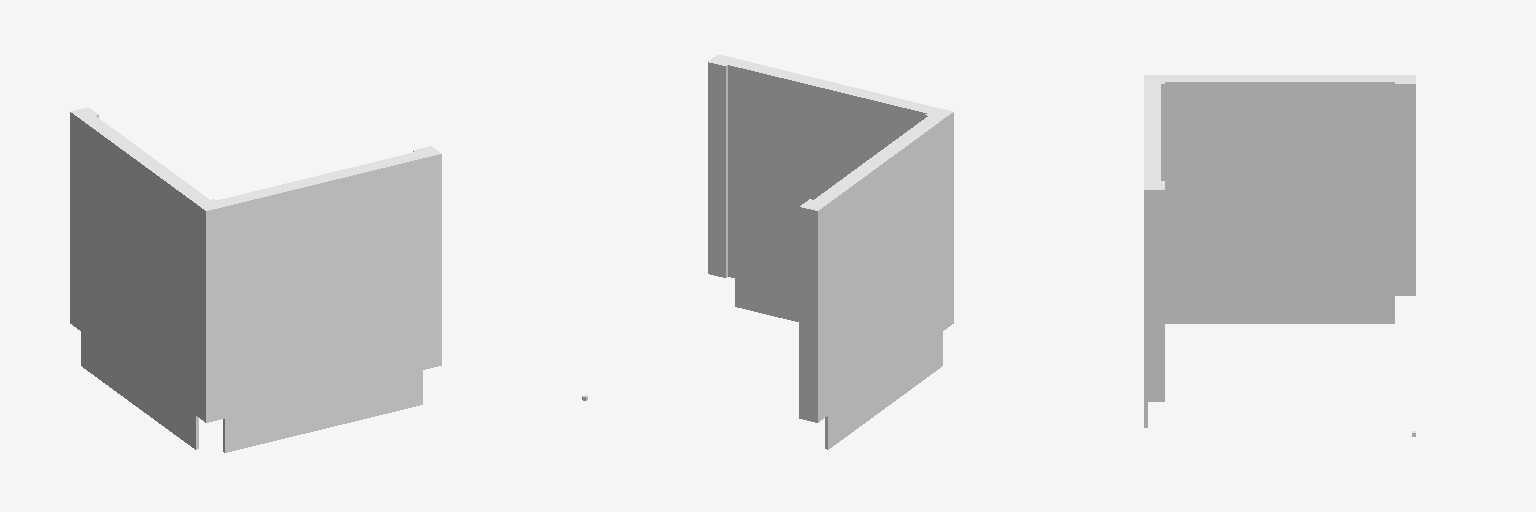
Rendered from Wall-1100.obj.
3 renders of one model, left to right at view 1: azimuth 30°, elevation 25°; view 2: azimuth 150°, elevation 25°; view 3: azimuth 270°, elevation 25°, orthographic.
Bounding box in the file's own units: 64 × 64 × 64.